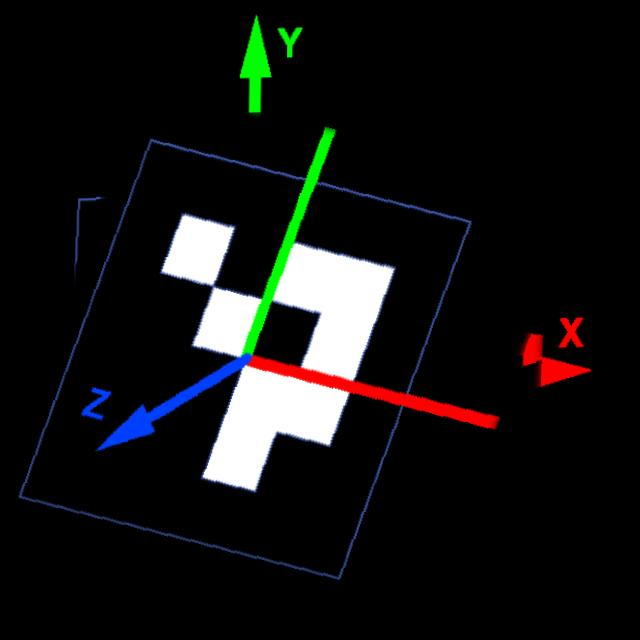aruco: (16, 107, 557, 639)
